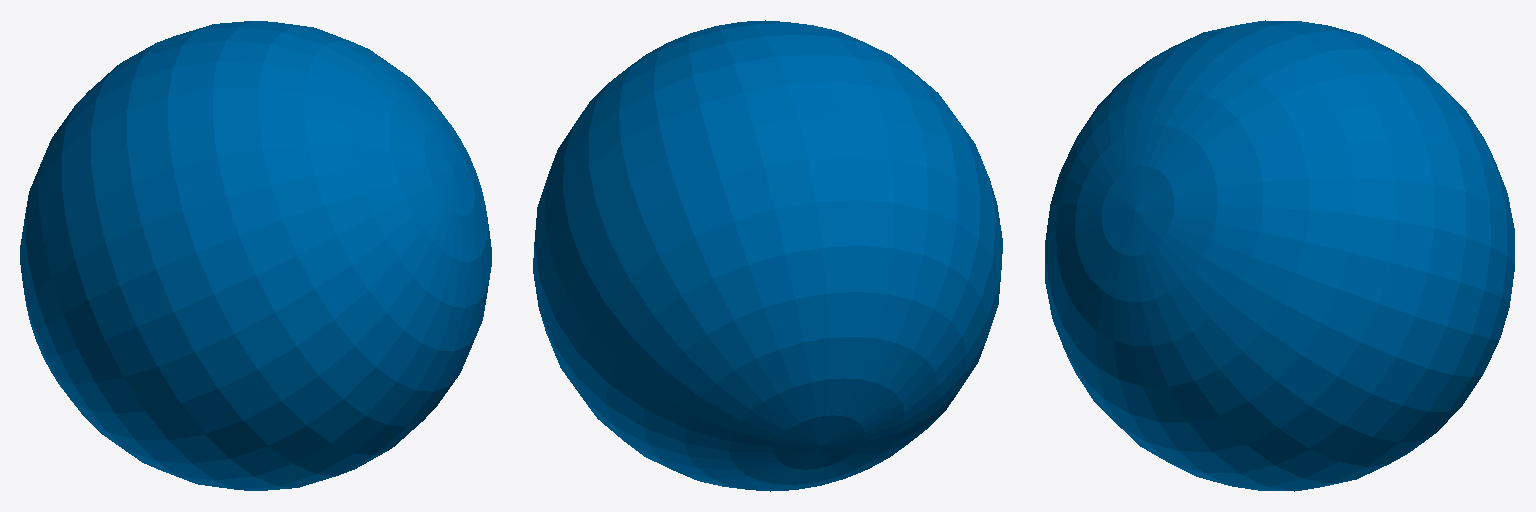
The robot description file, URDF, robot "panda":
<?xml version="1.0" ?>
<!-- =================================================================================== -->
<!-- |    This document was autogenerated by xacro from /opt/ros/kinetic/share/moveit_resources/panda_description/urdf/panda.urdf | -->
<!-- |    EDITING THIS FILE BY HAND IS NOT RECOMMENDED                                 | -->
<!-- =================================================================================== -->
<robot name="panda" xmlns:xacro="http://www.ros.org/wiki/xacro">
    <link name="l1">
        <inertial>
            <mass value="1e-6"/>
            <inertia ixx="1e-6" ixy="1e-6" ixz="1e-6" iyy="1e-6" iyz="1e-6" izz="1e-6"/>
        </inertial>
    </link>
    <link name="l2">
        <inertial>
            <mass value="1e-6"/>
            <inertia ixx="1e-6" ixy="1e-6" ixz="1e-6" iyy="1e-6" iyz="1e-6" izz="1e-6"/>
        </inertial>
    </link>
    <link name="panda_link0">
        <visual>
            <geometry>
                <mesh filename="package://meshes/visual/link0.dae" />
            </geometry>
        </visual>
        <collision>
            <geometry>
                <mesh filename="package://meshes/collision/link0.stl" />
            </geometry>
        </collision>
    </link>

        <joint name="j1" type="prismatic">
        <parent link="l1"/>
        <child link="l2"/>
        <origin xyz="0 0 0" rpy="0 0 0"/>
        <axis xyz="1 0 0"/>
        <limit effort="30" velocity="1.0" lower="-3.14" upper="3.14" />
    </joint>
    <joint name="j2" type="prismatic">
        <parent link="l2"/>
        <child link="panda_link0"/>
        <origin xyz="0 0 0" rpy="0 0 0"/>
        <axis xyz="0 1 0"/>
        <limit effort="30" velocity="1.0" lower="-3.14" upper="3.14" />
    </joint>

    <link name="panda_link1">
        <visual>
            <geometry>
                <mesh filename="package://meshes/visual/link1.dae" />
            </geometry>
        </visual>
        <collision>
            <geometry>
                <mesh filename="package://meshes/collision/link1.stl" />
            </geometry>
        </collision>
    </link>
    <joint name="panda_joint1" type="revolute">
        <safety_controller k_position="100.0" k_velocity="40.0" soft_lower_limit="-2.8973" soft_upper_limit="2.8973" />
        <origin rpy="0 0 0" xyz="0 0 0.333" />
        <parent link="panda_link0" />
        <child link="panda_link1" />
        <axis xyz="0 0 1" />
        <limit effort="87" lower="-2.9671" upper="2.9671" velocity="2.3925" />
    </joint>
    <link name="panda_link2">
        <visual>
            <geometry>
                <mesh filename="package://meshes/visual/link2.dae" />
            </geometry>
        </visual>
        <collision>
            <geometry>
                <mesh filename="package://meshes/collision/link2.stl" />
            </geometry>
        </collision>
    </link>
    <joint name="panda_joint2" type="revolute">
        <safety_controller k_position="100.0" k_velocity="40.0" soft_lower_limit="-1.7628" soft_upper_limit="1.7628" />
        <origin rpy="-1.57079632679 0 0" xyz="0 0 0" />
        <parent link="panda_link1" />
        <child link="panda_link2" />
        <axis xyz="0 0 1" />
        <limit effort="87" lower="-1.8326" upper="1.8326" velocity="2.3925" />
    </joint>
    <link name="panda_link3">
        <visual>
            <geometry>
                <mesh filename="package://meshes/visual/link3.dae" />
            </geometry>
        </visual>
        <collision>
            <geometry>
                <mesh filename="package://meshes/collision/link3.stl" />
            </geometry>
        </collision>
    </link>
    <joint name="panda_joint3" type="revolute">
        <safety_controller k_position="100.0" k_velocity="40.0" soft_lower_limit="-2.8973" soft_upper_limit="2.8973" />
        <origin rpy="1.57079632679 0 0" xyz="0 -0.316 0" />
        <parent link="panda_link2" />
        <child link="panda_link3" />
        <axis xyz="0 0 1" />
        <limit effort="87" lower="-2.9671" upper="2.9671" velocity="2.3925" />
    </joint>
    <link name="panda_link4">
        <visual>
            <geometry>
                <mesh filename="package://meshes/visual/link4.dae" />
            </geometry>
        </visual>
        <collision>
            <geometry>
                <mesh filename="package://meshes/collision/link4.stl" />
            </geometry>
        </collision>
    </link>
    <joint name="panda_joint4" type="revolute">
        <safety_controller k_position="100.0" k_velocity="40.0" soft_lower_limit="-3.0718" soft_upper_limit="0.0175" />
        <origin rpy="1.57079632679 0 0" xyz="0.0825 0 0" />
        <parent link="panda_link3" />
        <child link="panda_link4" />
        <axis xyz="0 0 1" />
        <limit effort="87" lower="-3.1416" upper="0.0873" velocity="2.3925" />
    </joint>
    <link name="panda_link5">
        <visual>
            <geometry>
                <mesh filename="package://meshes/visual/link5.dae" />
            </geometry>
        </visual>
        <collision>
            <geometry>
                <mesh filename="package://meshes/collision/link5.stl" />
            </geometry>
        </collision>
    </link>
    <joint name="panda_joint5" type="revolute">
        <safety_controller k_position="100.0" k_velocity="40.0" soft_lower_limit="-2.8973" soft_upper_limit="2.8973" />
        <origin rpy="-1.57079632679 0 0" xyz="-0.0825 0.384 0" />
        <parent link="panda_link4" />
        <child link="panda_link5" />
        <axis xyz="0 0 1" />
        <limit effort="12" lower="-2.9671" upper="2.9671" velocity="2.8710" />
    </joint>
    <link name="panda_link6">
        <visual>
            <geometry>
                <mesh filename="package://meshes/visual/link6.dae" />
            </geometry>
        </visual>
        <collision>
            <geometry>
                <mesh filename="package://meshes/collision/link6.stl" />
            </geometry>
        </collision>
    </link>
    <joint name="panda_joint6" type="revolute">
        <safety_controller k_position="100.0" k_velocity="40.0" soft_lower_limit="-0.0175" soft_upper_limit="3.7525" />
        <origin rpy="1.57079632679 0 0" xyz="0 0 0" />
        <parent link="panda_link5" />
        <child link="panda_link6" />
        <axis xyz="0 0 1" />
        <limit effort="12" lower="-0.0873" upper="3.8223" velocity="2.8710" />
    </joint>
    <link name="panda_link7">
        <visual>
            <geometry>
                <mesh filename="package://meshes/visual/link7.dae" />
            </geometry>
        </visual>
        <collision>
            <geometry>
                <mesh filename="package://meshes/collision/link7.stl" />
            </geometry>
        </collision>
    </link>
    <joint name="panda_joint7" type="revolute">
        <safety_controller k_position="100.0" k_velocity="40.0" soft_lower_limit="-2.8973" soft_upper_limit="2.8973" />
        <origin rpy="1.57079632679 0 0" xyz="0.088 0 0" />
        <parent link="panda_link6" />
        <child link="panda_link7" />
        <axis xyz="0 0 1" />
        <limit effort="12" lower="-2.9671" upper="2.9671" velocity="2.8710" />
    </joint>
    <link name="panda_link8" />
    <joint name="panda_joint8" type="fixed">
        <origin rpy="0 0 0" xyz="0 0 0.137" />
        <parent link="panda_link7" />
        <child link="panda_link8" />
        <axis xyz="0 0 0" />
    </joint>
    <joint name="panda_spade_joint" type="fixed">
        <parent link="panda_link8" />
        <child link="panda_spade" />
        <origin rpy="-1.57079632679 0 -0.785398163397" xyz="0 0 0" />
    </joint>
    <link name="panda_spade">
        <visual>
            <geometry>
                <mesh filename="package://spade_v1.obj" scale="0.001 0.001 0.001"/>
            </geometry>
        </visual>
        <collision>
            <geometry>
                <mesh filename="package://spade_v1.obj" scale="0.001 0.001 0.001"/>
            </geometry>
        </collision>
    </link>

    <link name="spade_tip">
        <visual>
            <origin xyz="0 0 0" rpy="0 0 0"/>
            <geometry>
                <sphere radius="0.02"/>
            </geometry>
            <material name="green"/>
        </visual>
        <collision>
            <origin xyz="0 0 0" rpy="0 0 0"/>
            <geometry>
                <sphere radius="0.02"/>
            </geometry>
            <material name="green"/>
        </collision>

    </link>

    <joint name="spade_handle_tip" type="fixed">
        <parent link="panda_spade"/>
        <child link="spade_tip"/>
        <origin xyz="0. 0.045 0.4" rpy="-0.523598775 0 0"/>
    </joint>

</robot>

--- Facts derived from the render (not from the file) ---
3 views of the same robot in one strip: view 1: azimuth 30°, elevation 25°; view 2: azimuth 150°, elevation 25°; view 3: azimuth 270°, elevation 25° (orthographic).
Model panda with 13 links and 12 joints (7 revolute, 2 prismatic, 3 fixed), rooted at l1, posed every joint at zero.
Links seen in each view (by area): view 1: spade_tip; view 2: spade_tip; view 3: spade_tip.
Link boxes in pixels (x1,y1,x2,y2): spade_tip: (20, 21, 491, 490); spade_tip: (533, 20, 1002, 491); spade_tip: (1045, 20, 1514, 491).
Bounding box of the posed robot: 0.0398 × 0.0398 × 0.0399 m (x, y, z).
0 mesh visuals loaded from 8 distinct referenced files (none loaded); not drawn: 8 (reference not matched to a file when rendering), 1 (reference in a form the renderer does not follow; not among the files counted above).